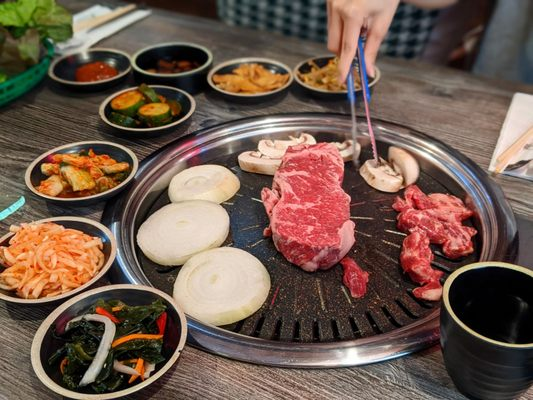sushi: (30, 284, 188, 400), (0, 213, 116, 318), (24, 140, 139, 204), (98, 84, 196, 137), (132, 41, 214, 94), (208, 57, 292, 99), (49, 50, 133, 91)
